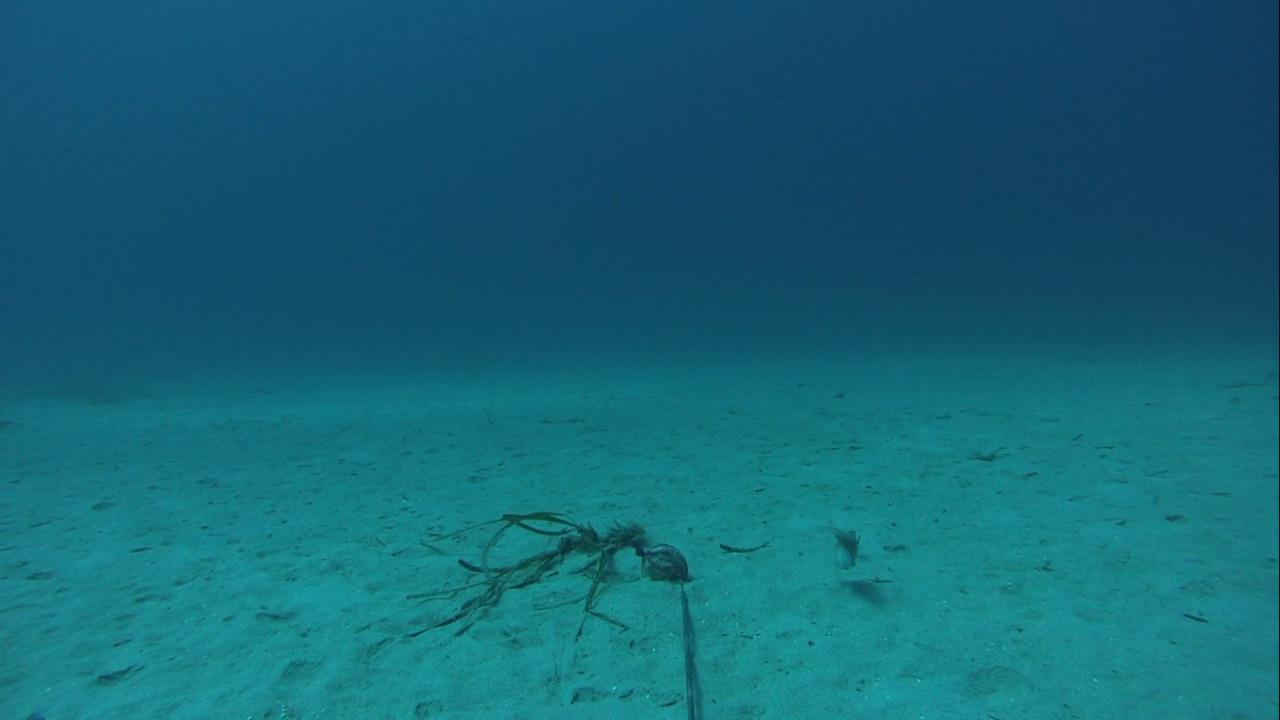raor: (820, 518, 863, 571)
